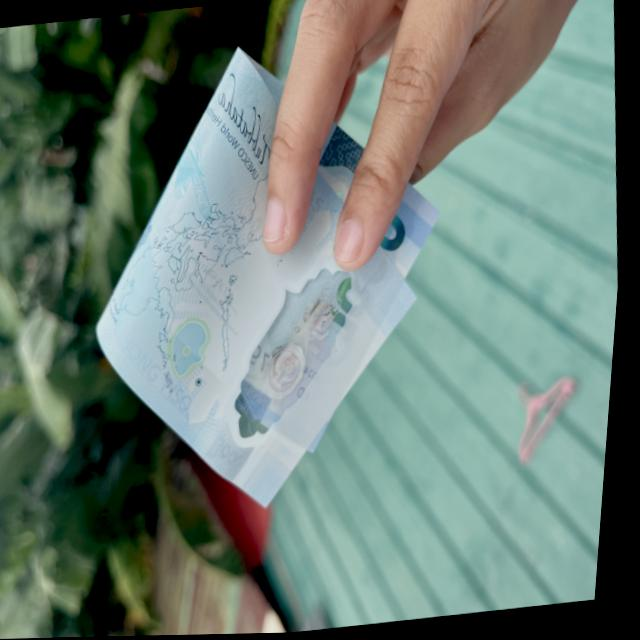clear_window: (174, 168, 402, 495)
